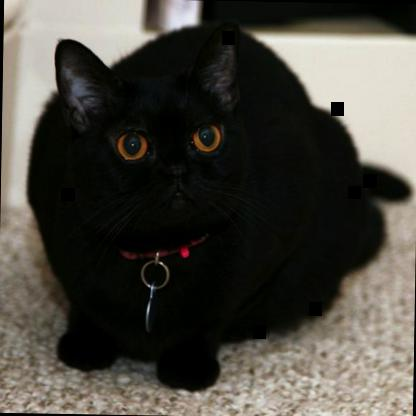cat: (23, 17, 412, 396)
